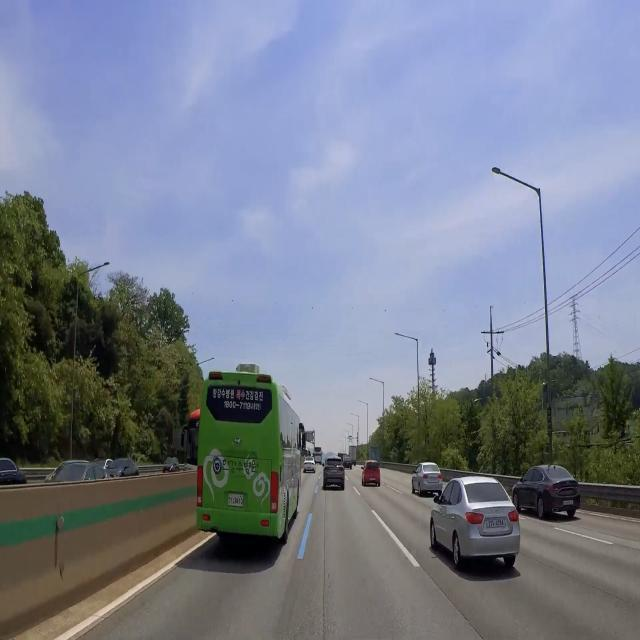car: (222, 488, 247, 513), (485, 516, 508, 533), (562, 498, 577, 509), (329, 466, 340, 477), (428, 476, 438, 487), (368, 477, 379, 484)
